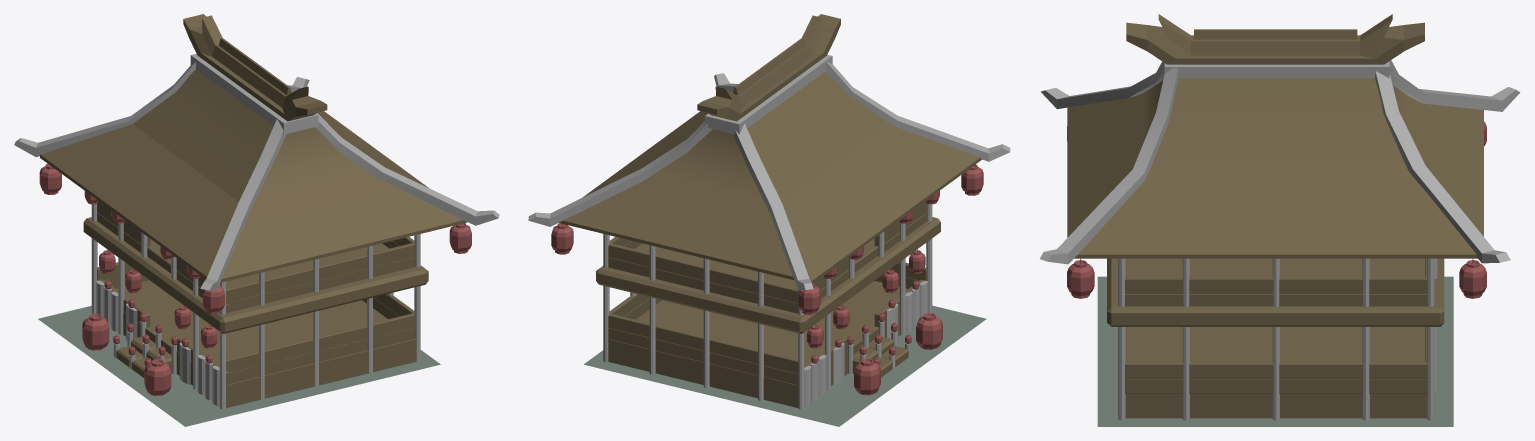
The model's file is 酒楼（uv已拆）.fbx.
3 renders of one model, left to right at view 1: azimuth 30°, elevation 25°; view 2: azimuth 150°, elevation 25°; view 3: azimuth 270°, elevation 25°, orthographic. The views are drawn at different scales.
Parts seen in each view (by area): view 1: polySurface384; view 2: polySurface384; view 3: polySurface384.
Boxes of the visible parts, x1=… form: polySurface384: x1=14, y1=14, x2=499, y2=426; polySurface384: x1=528, y1=14, x2=1010, y2=426; polySurface384: x1=1039, y1=14, x2=1520, y2=426.
Bounding box in the file's own units: 27.92 × 26.57 × 32.37.
